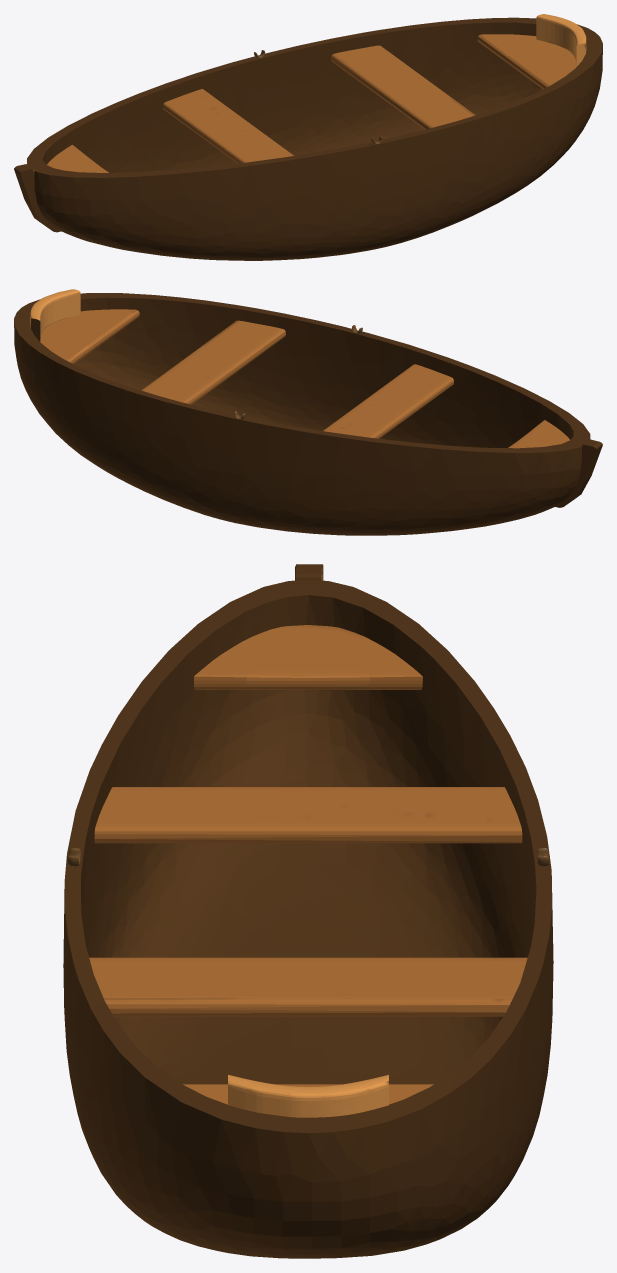
Rendered from Boat.fbx.
3 views of the same model, one above another, from view 1: azimuth 30°, elevation 25°; view 2: azimuth 150°, elevation 25°; view 3: azimuth 270°, elevation 25° (orthographic). The views are drawn at different scales.
Parts seen in each view (by area): view 1: Cube; view 2: Cube; view 3: Cube.
Part boxes in pixels (x1,y1,x2,y2): Cube: (14,14,602,260); Cube: (14,289,602,535); Cube: (63,564,553,1258).
Bounding box in the file's own units: 498 × 108 × 183.
